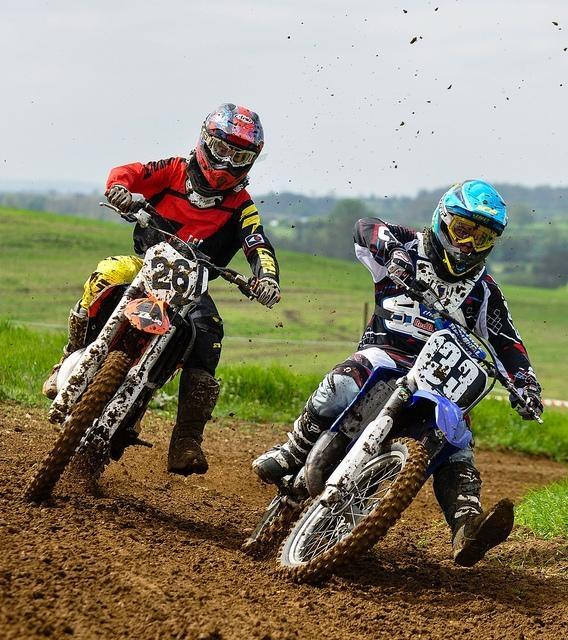motorcycle: (272, 257, 545, 581), (14, 192, 284, 508)
